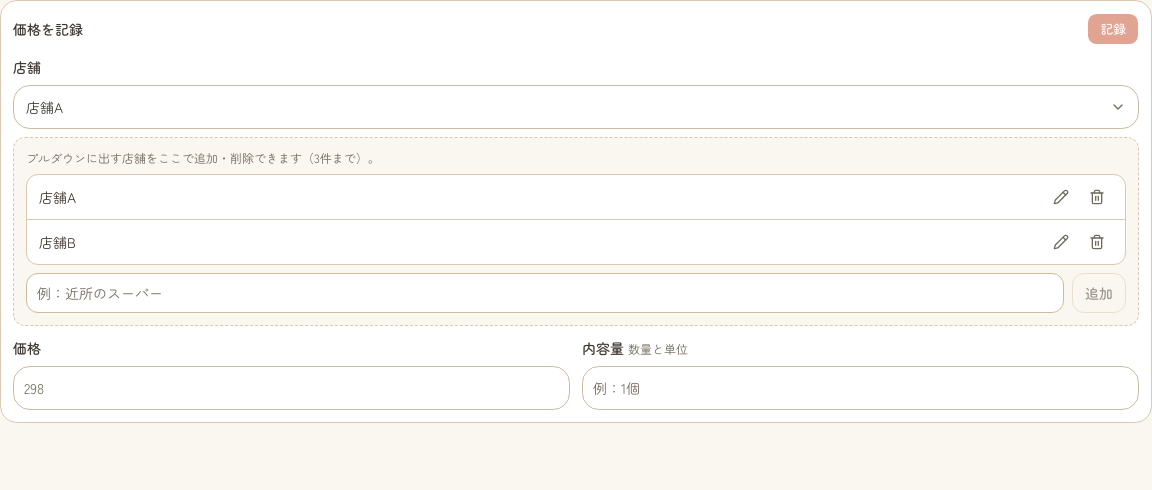
PriceRecordForm › PRF-06: 422 のとき本文をパースせず、一覧と入力名から理由を組み立てて表示する
Expected: the text "プルダウンに出す店舗をここで追加・削除できます（3件まで）。" is shown, [26, 149, 380, 166]
Type "店舗C" into the field named "追加する店舗名" at (545, 293), box [26, 273, 1064, 313]
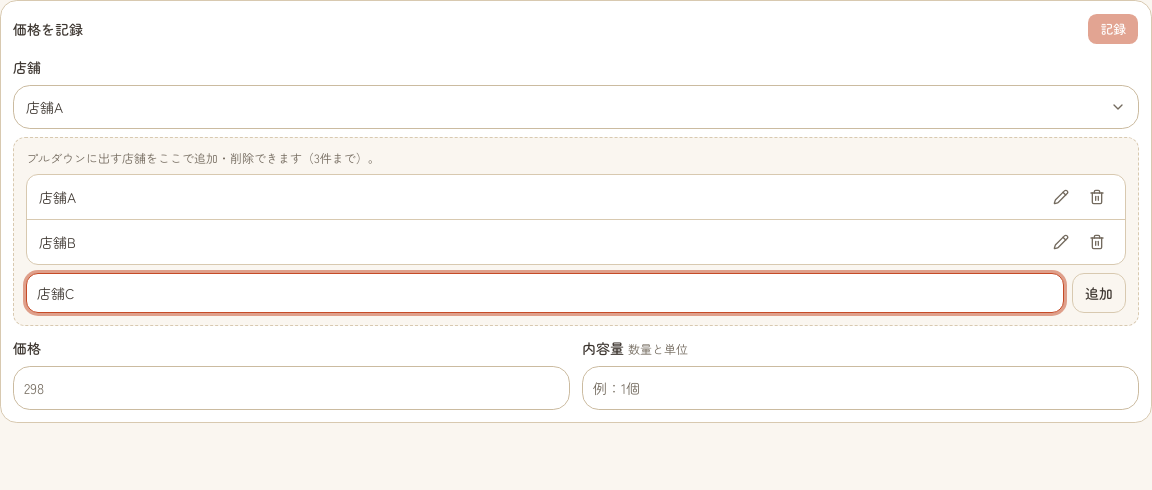
Click the button "追加" at (1099, 293), box [1072, 273, 1126, 313]
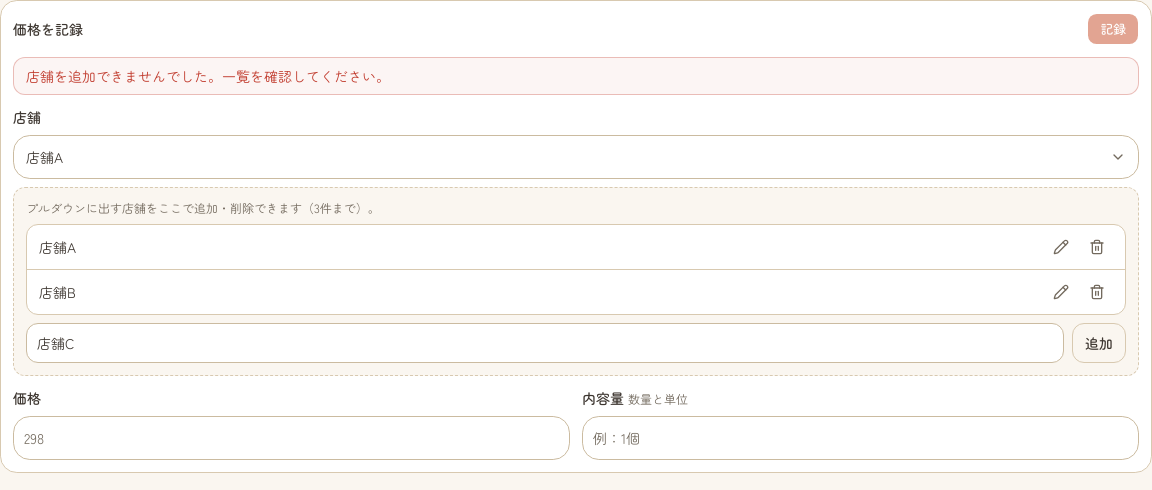
Expected: the text "店舗を追加できませんでした。一覧を確認してください。" is shown, [13, 57, 1139, 95]
